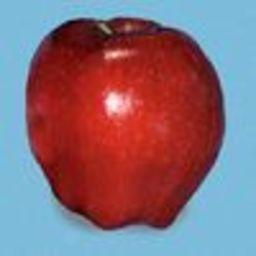apple: (24, 20, 224, 229)
